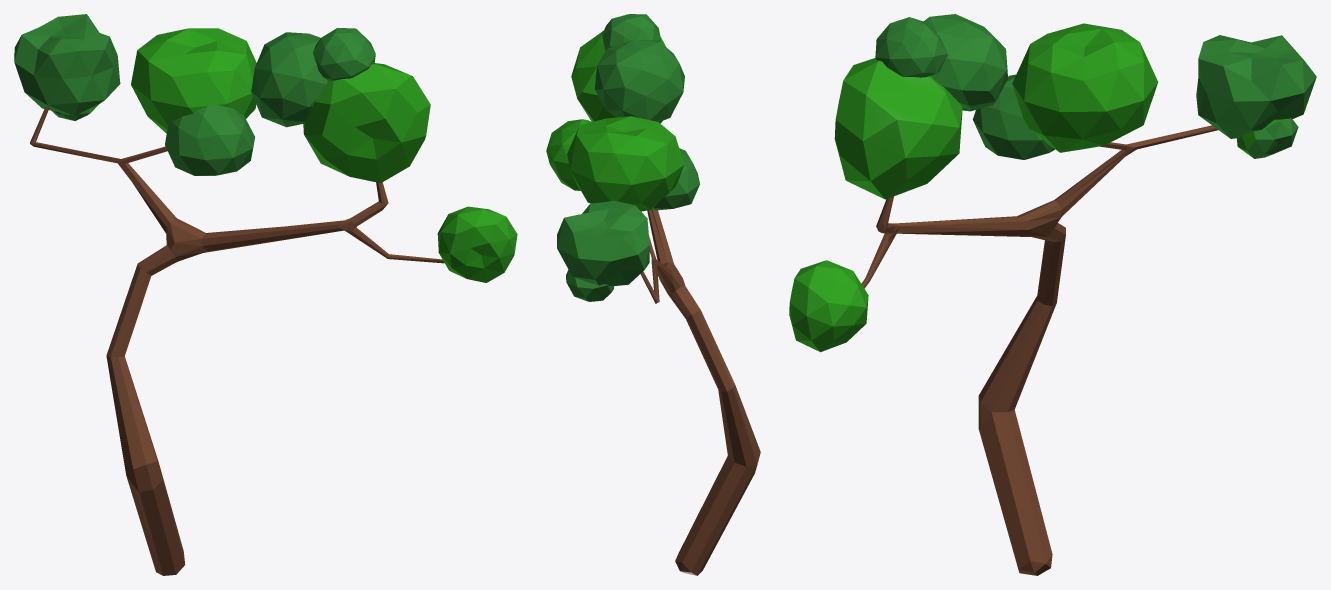
The model's file is tree.fbx.
3 renders of one model, left to right at view 1: azimuth 30°, elevation 25°; view 2: azimuth 150°, elevation 25°; view 3: azimuth 270°, elevation 25°, orthographic. The views are drawn at different scales.
Visible parts, largest first — view 1: Icosphere.006; view 2: Icosphere.006; view 3: Icosphere.006.
Part boxes in pixels (bbox=[...]): Icosphere.006: bbox=[14, 14, 517, 575]; Icosphere.006: bbox=[546, 14, 760, 575]; Icosphere.006: bbox=[789, 14, 1316, 575].
Size of the model in its own units: 12.62 by 9.53 by 16.29.
